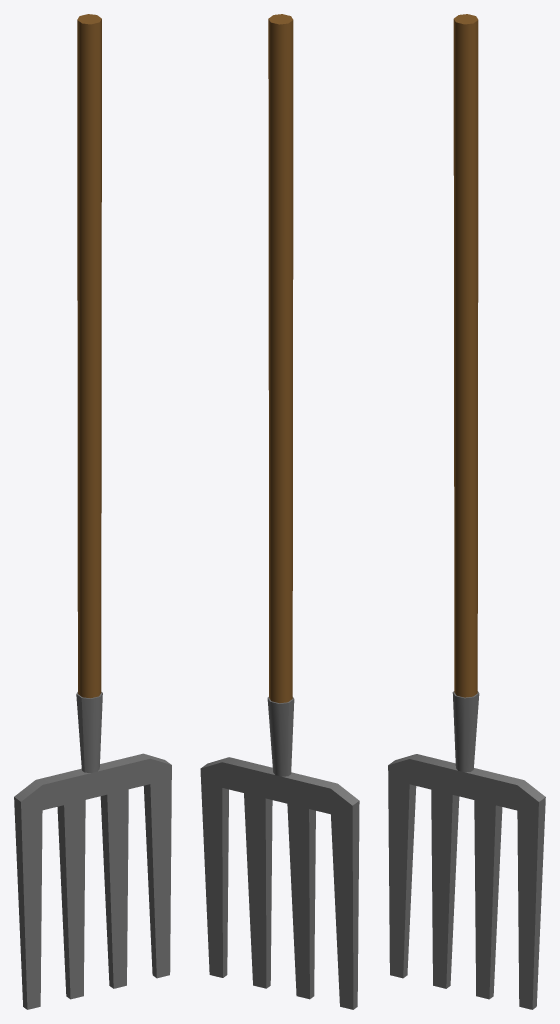
The model's file is Fork_1.fbx.
3 renders of one model, left to right at view 1: azimuth 30°, elevation 25°; view 2: azimuth 150°, elevation 25°; view 3: azimuth 330°, elevation 25°, orthographic.
Parts seen in each view (by area): view 1: Fork_1; view 2: Fork_1; view 3: Fork_1.
Boxes of the visible parts, left/top/right/bottom form: Fork_1: left=14, top=14, right=171, bottom=1009; Fork_1: left=200, top=14, right=359, bottom=1009; Fork_1: left=388, top=14, right=545, bottom=1009.
Size of the model in its own units: 0.1019 by 0.6245 by 0.0153.
